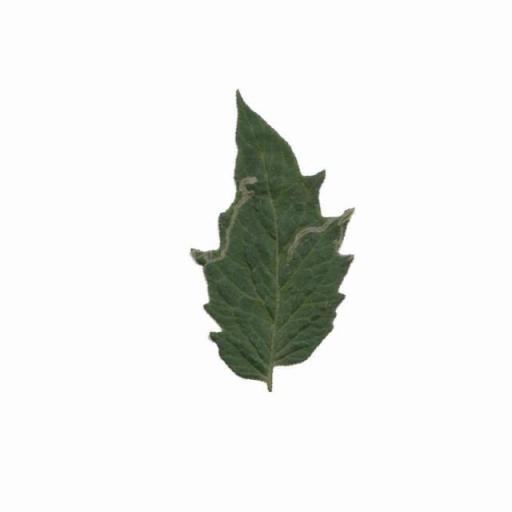disease_tomato: (191, 92, 359, 384)
